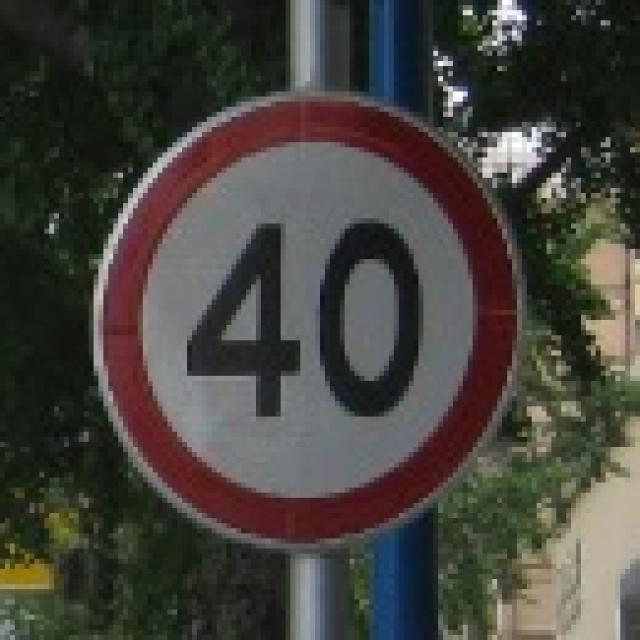Speed Limit -40-: (180, 215, 425, 424)
